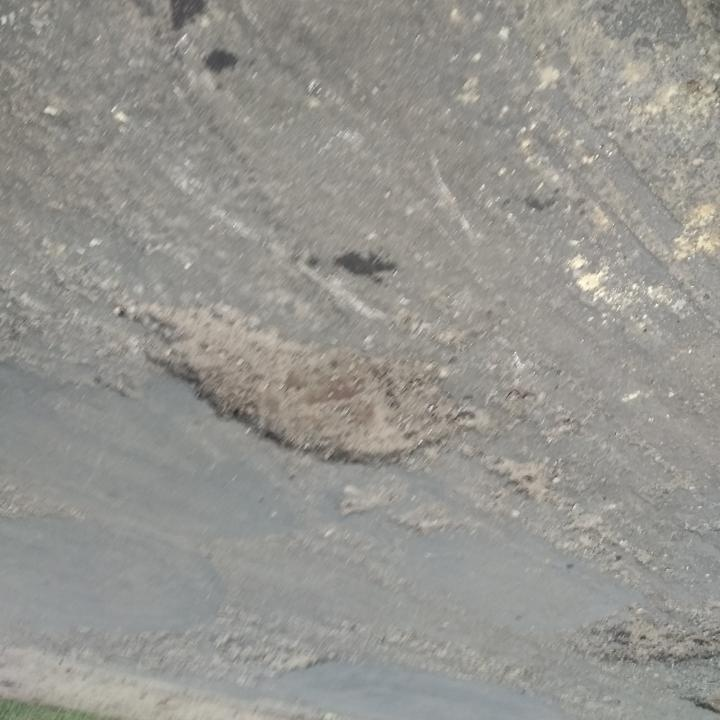pothole: (123, 298, 474, 473), (580, 613, 720, 670), (211, 637, 333, 677)
